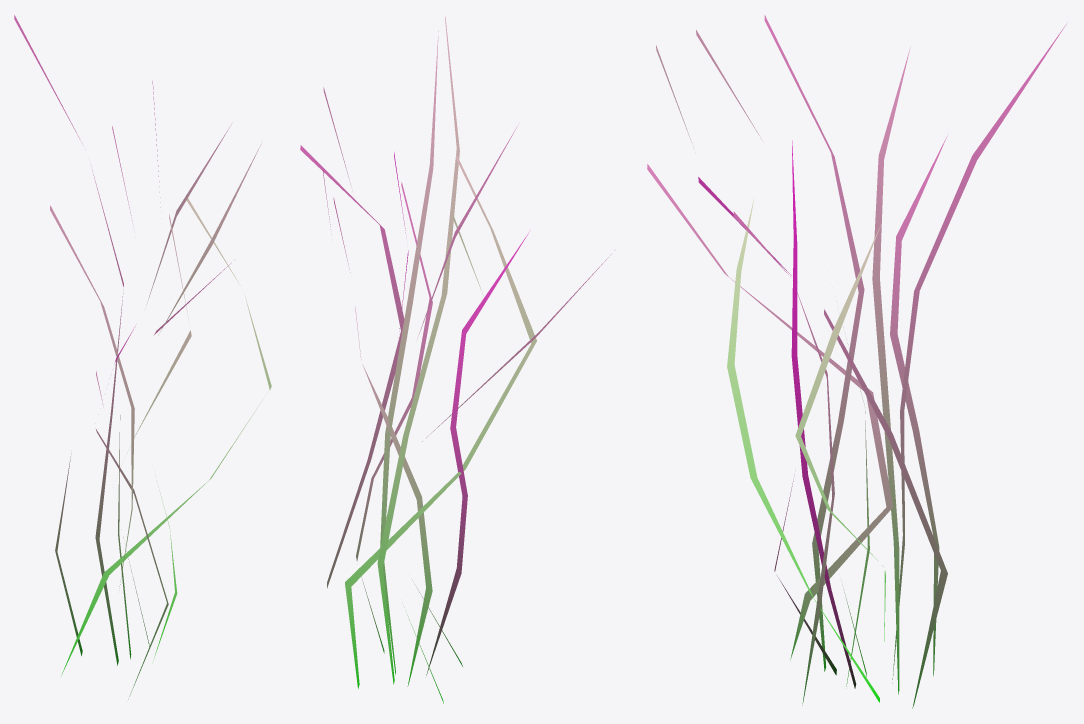
File: seaweed_c_lod.glb
3 renders of one model, left to right at view 1: azimuth 30°, elevation 25°; view 2: azimuth 150°, elevation 25°; view 3: azimuth 270°, elevation 25°, orthographic. The views are drawn at different scales.
Visible parts, largest first — view 1: Sea_C_LOD; view 2: Sea_C_LOD; view 3: Sea_C_LOD.
Part boxes in pixels (box(x1,y1,x2,y2)): Sea_C_LOD: box(14, 15, 271, 699); Sea_C_LOD: box(300, 16, 614, 703); Sea_C_LOD: box(647, 15, 1066, 708).
Bounding box in the file's own units: 0.99 × 2.36 × 1.34.
